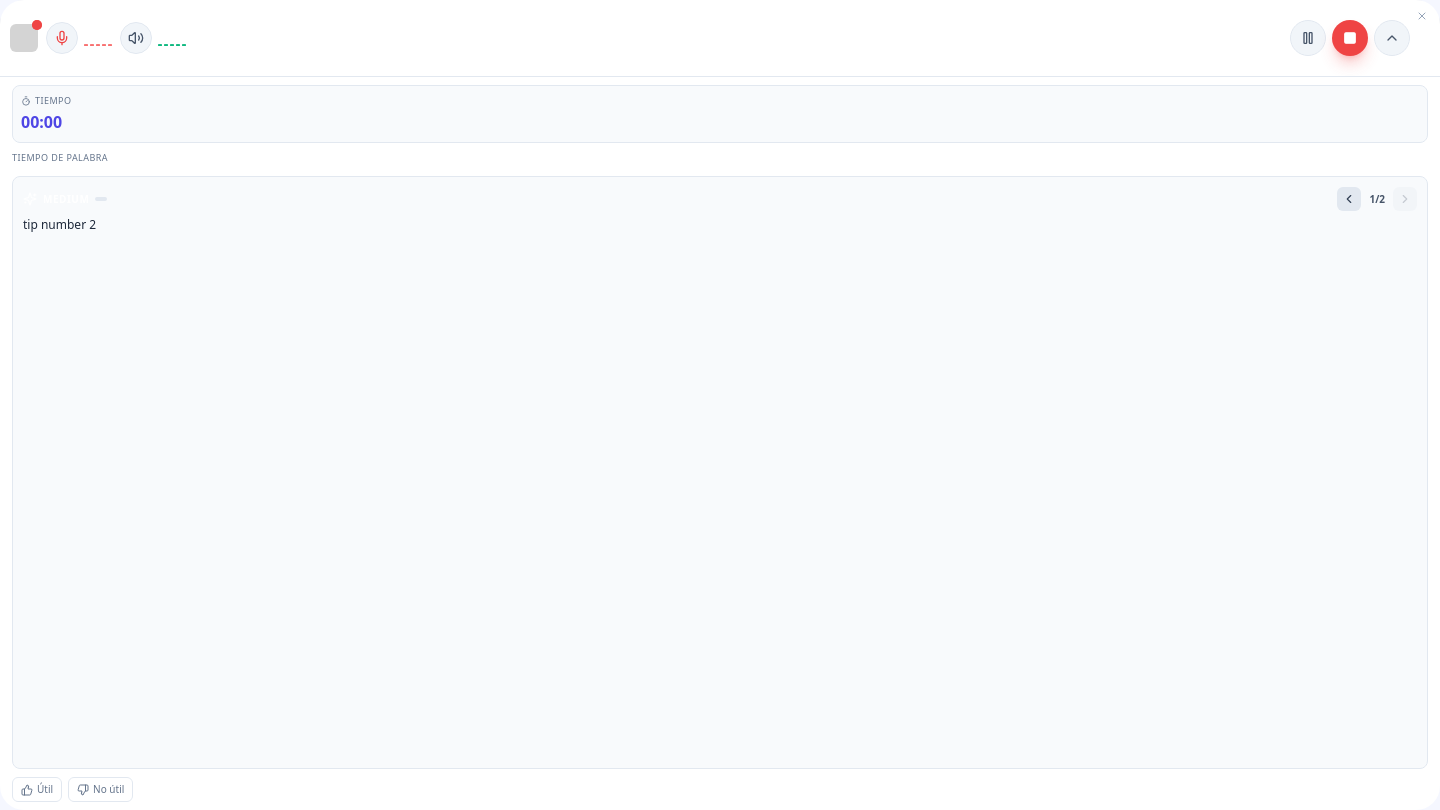
CoachFloatPage — feedback por tip › persiste el rating por tip al navegar (no se pierde al cambiar de tip)
The image size is (1440, 810).
Votar el tip mas reciente (tip 2)
Click the button "Útil".
click(37, 790)  # box [12,777,62,802]
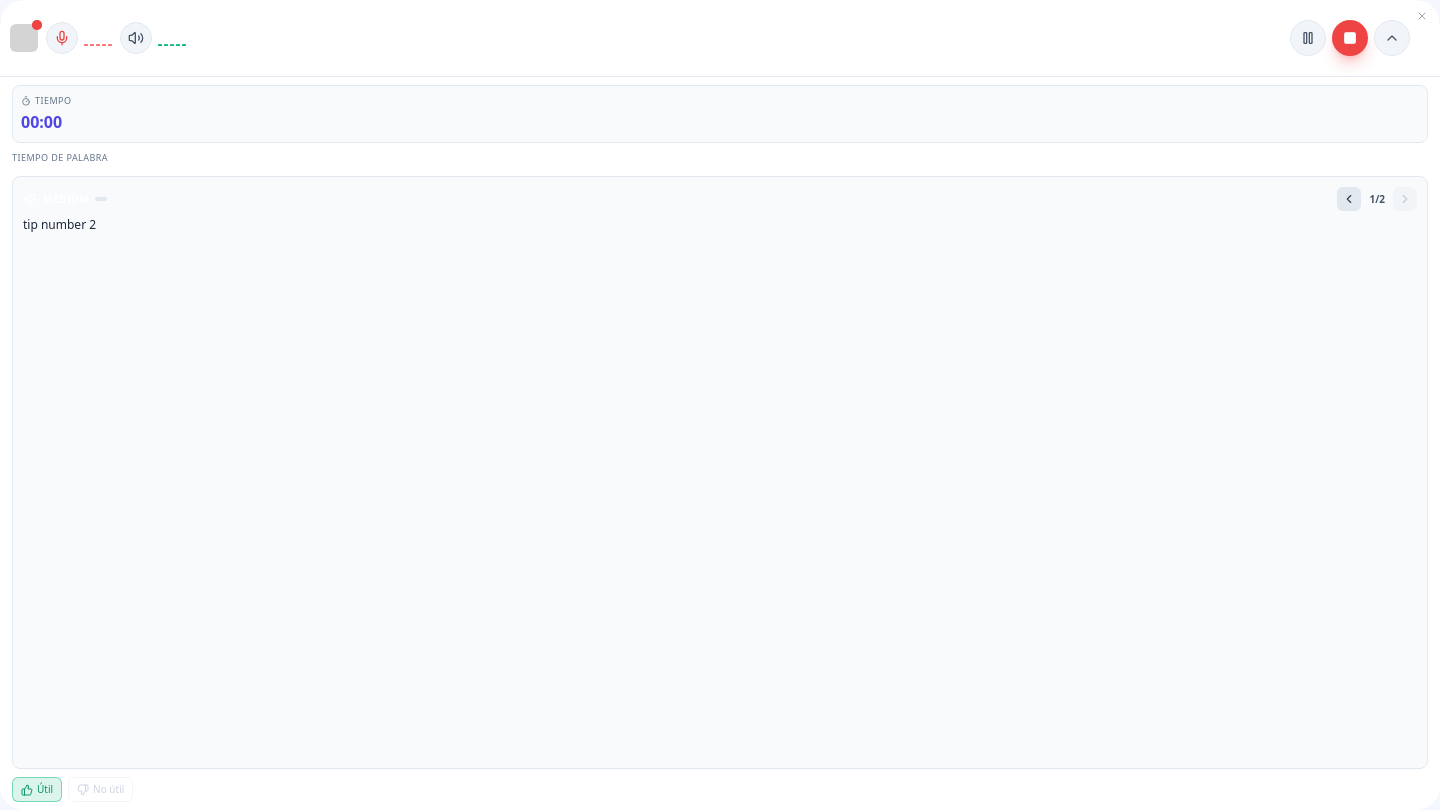
Check: the button "Útil" is disabled, box [12,777,62,802]
